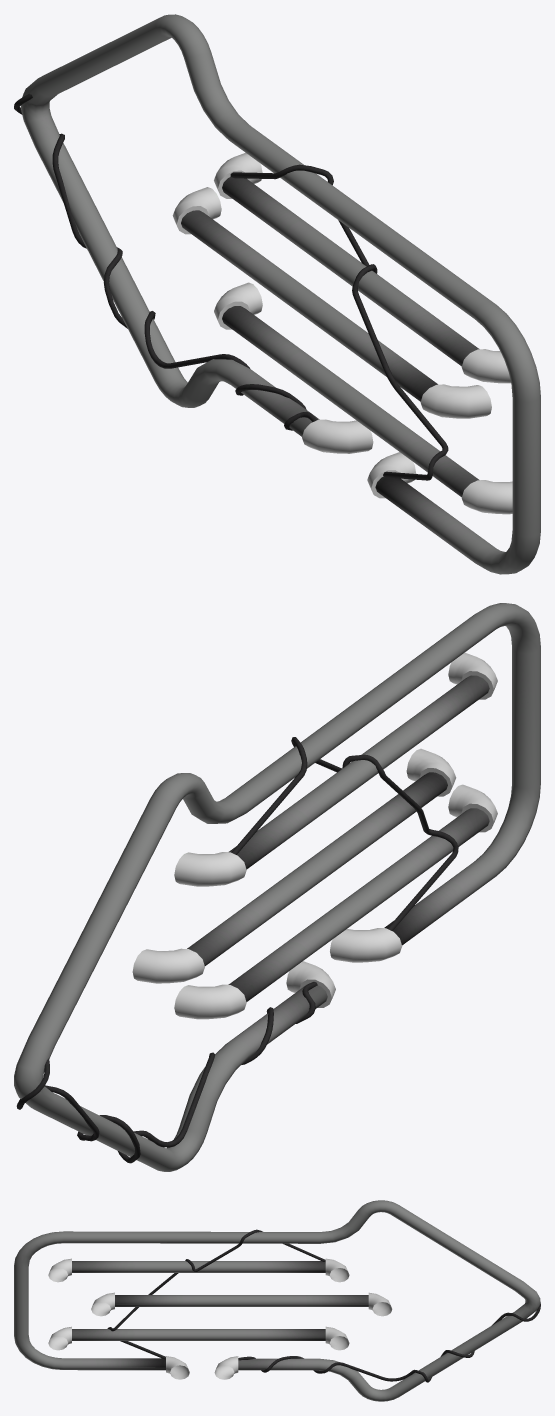
The model's file is Prop_ArrowSign.obj.
The picture shows the model from 3 angles, top to bottom: view 1: azimuth 30°, elevation 25°; view 2: azimuth 150°, elevation 25°; view 3: azimuth 270°, elevation 25°; orthographic projection. The views are drawn at different scales.
Parts seen in each view (by area): view 1: Prop_ArrowSign_0; view 2: Prop_ArrowSign_0; view 3: Prop_ArrowSign_0.
Part boxes in pixels (x1=…): Prop_ArrowSign_0: x1=14, y1=14, x2=540, y2=574; Prop_ArrowSign_0: x1=14, y1=603, x2=540, y2=1171; Prop_ArrowSign_0: x1=14, y1=1200, x2=540, y2=1401.
Bounding box in the file's own units: 0.1679 × 1.19 × 2.85.
1 material, 1 textured.
